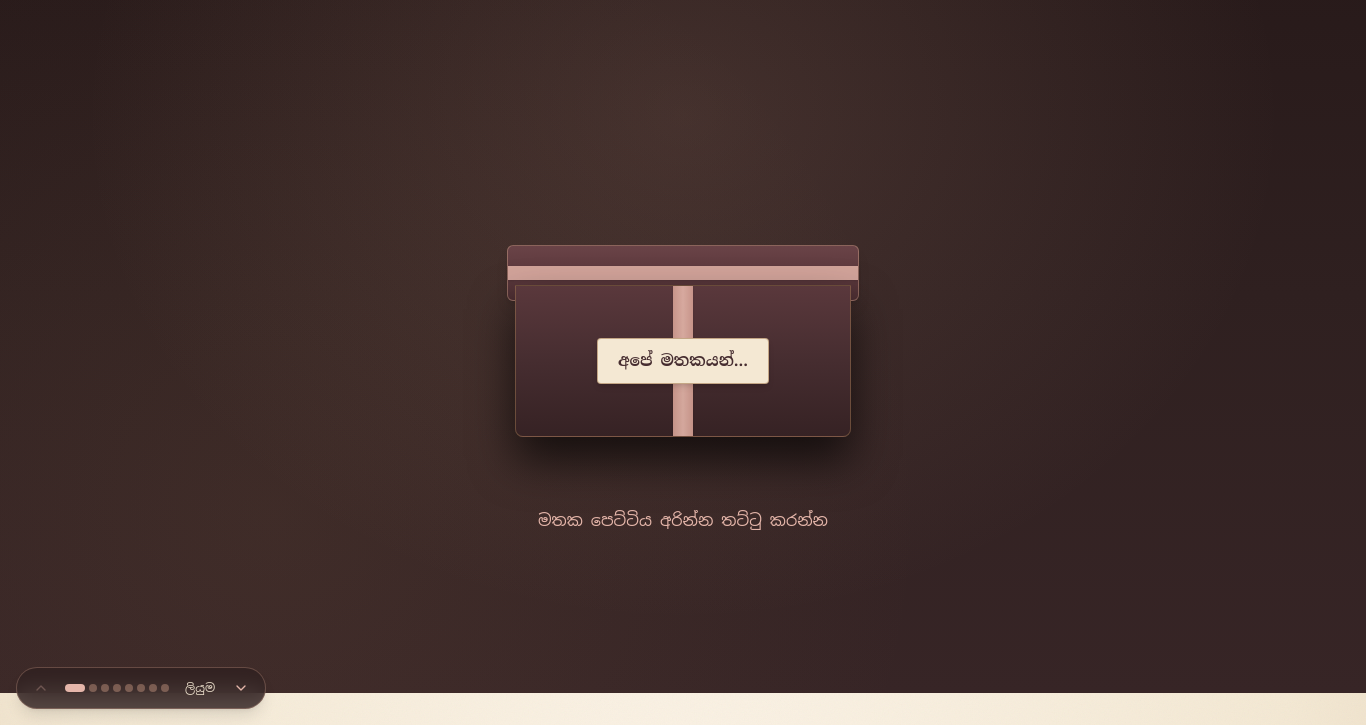
Test: My Manika Birthday Story › opens the memory box on click and reveals the enter scrapbook button
(page scrolled)
Click the button with aria-label "මතක පෙට්ටිය අරින්න තට්ටු කරන්න": (683,341) [507,245,859,437]
Wait 650 ms
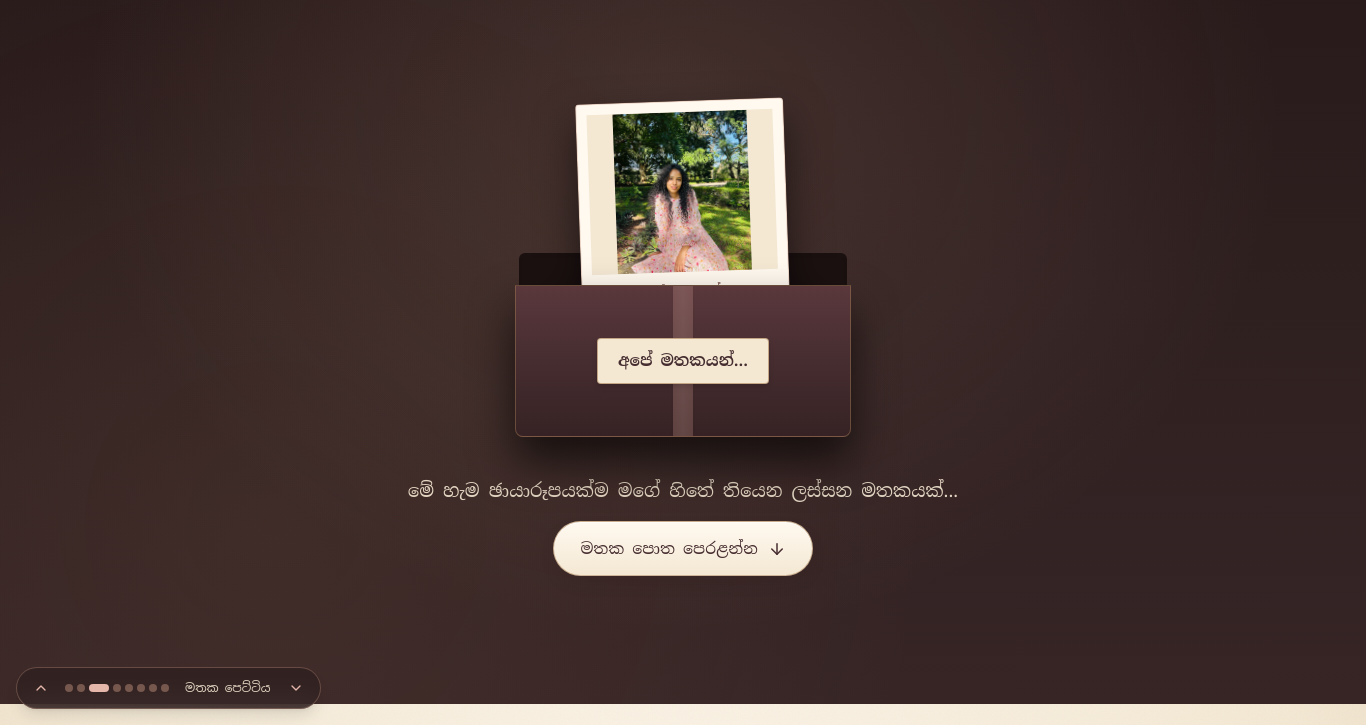
Check: the button "මතක පොත පෙරළන්න" is shown, box [553,521,813,576]
